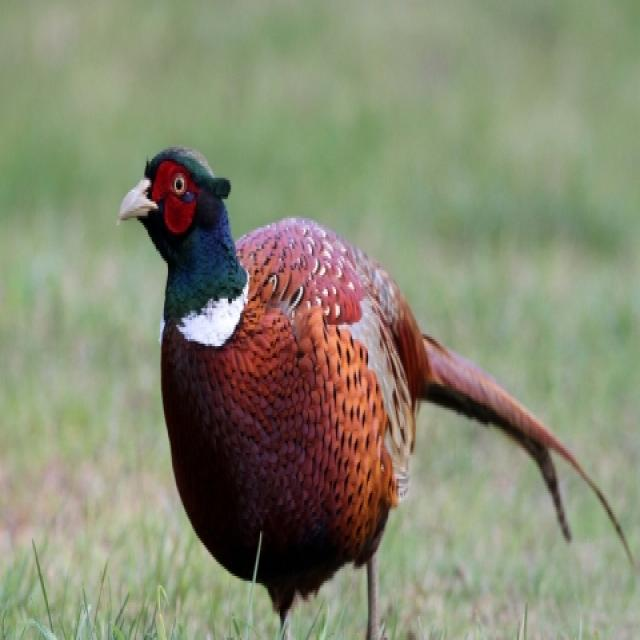pheasant: (115, 140, 622, 640)
